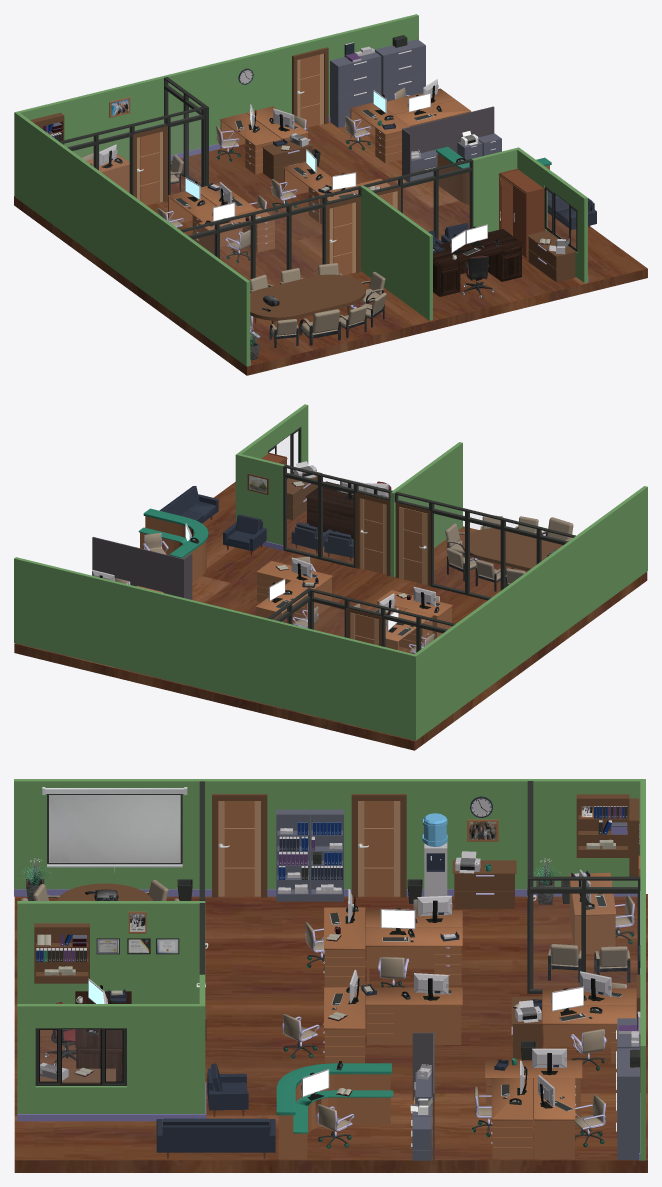
File: office.glb
The picture shows the model from 3 angles, top to bottom: view 1: azimuth 30°, elevation 25°; view 2: azimuth 150°, elevation 25°; view 3: azimuth 270°, elevation 25°; orthographic projection. The views are drawn at different scales.
Parts seen in each view (by area): view 1: Room_1, Floor_2, Room.002_460, Room.001_504, Meeting table_490, simple_desk.000_586, wardrobe_507, Door.001_401, Door.002_472, Door.010_22, Window_510, Reception_4 (+31 smaller); view 2: Room_1, Floor_2, Room.001_504, Room.002_460, Reception_4, Meeting table_490, Door.002_472, Door_600, Plane.006_5, simple_desk.000_586, Small wall_7, couch1_207 (+16 smaller); view 3: Floor_2, Room_1, Room.001_504, Room.002_460, Projector Screen_497, Reception_4, Window_510, couch1_207, Door.011_27, Door.009_17, Desk.010_247, Desk.016_320 (+56 smaller).
Boxes of the visible parts, x1,y1,x2,y2 form: Room_1: (14, 14, 418, 366); Floor_2: (14, 122, 647, 375); Room.002_460: (360, 185, 432, 320); Room.001_504: (472, 147, 587, 282); Meeting table_490: (250, 274, 365, 320); simple_desk.000_586: (433, 229, 523, 296); wardrobe_507: (498, 168, 544, 258); Door.001_401: (137, 131, 163, 205); Door.002_472: (329, 202, 356, 275); Door.010_22: (297, 53, 323, 127); Window_510: (544, 186, 577, 252); Reception_4: (436, 146, 551, 204); Room_1: (14, 486, 647, 740); Floor_2: (14, 482, 647, 750); Room.001_504: (235, 404, 308, 545); Room.002_460: (390, 442, 462, 577); Reception_4: (138, 508, 208, 583); Meeting table_490: (462, 528, 562, 570); Door.002_472: (399, 507, 427, 585); Door_600: (360, 498, 386, 574); Plane.006_5: (137, 548, 182, 597); simple_desk.000_586: (305, 481, 389, 538); Small wall_7: (92, 537, 137, 586); couch1_207: (159, 486, 218, 523); Floor_2: (14, 894, 647, 1172); Room_1: (14, 779, 645, 1160); Room.001_504: (17, 974, 205, 1113); Room.002_460: (17, 901, 205, 1003); Projector Screen_497: (42, 787, 187, 872); Reception_4: (276, 1063, 393, 1159); Window_510: (35, 1028, 126, 1085); couch1_207: (156, 1118, 275, 1158); Door.011_27: (218, 801, 260, 896); Door.009_17: (358, 801, 400, 896); Desk.010_247: (365, 987, 462, 1044); Desk.016_320: (534, 1078, 575, 1158).
Bounding box in the file's own units: 10.1 × 2.25 × 10.12.
23 materials, 21 textured.
